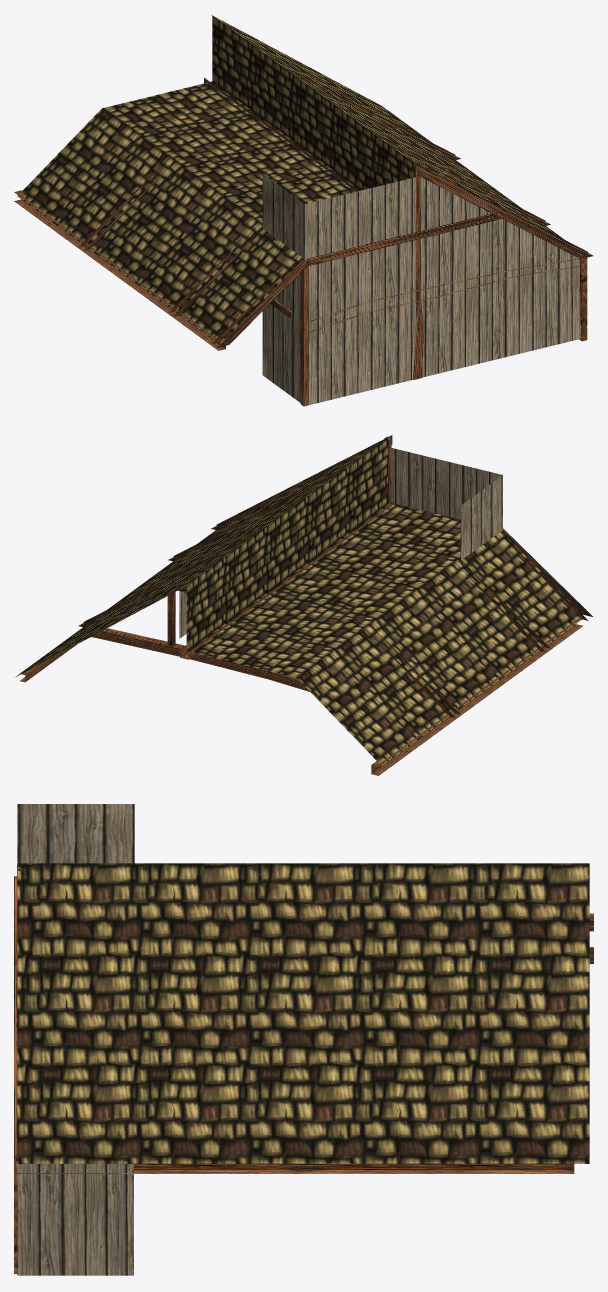
The model's file is LAKETOWN_PUB_PS_PUB_ROOFBACKWALL9__GX.fbx.
3 views of the same model, one above another, from view 1: azimuth 30°, elevation 25°; view 2: azimuth 150°, elevation 25°; view 3: azimuth 270°, elevation 25° (orthographic). The views are drawn at different scales.
Parts seen in each view (by area): view 1: LAKETOWN_PUB_PS_PUB_ROOFBACKWALL9__GX; view 2: LAKETOWN_PUB_PS_PUB_ROOFBACKWALL9__GX; view 3: LAKETOWN_PUB_PS_PUB_ROOFBACKWALL9__GX.
Part boxes in pixels (x1,y1,x2,y2): LAKETOWN_PUB_PS_PUB_ROOFBACKWALL9__GX: [14, 15, 593, 406]; LAKETOWN_PUB_PS_PUB_ROOFBACKWALL9__GX: [16, 435, 592, 775]; LAKETOWN_PUB_PS_PUB_ROOFBACKWALL9__GX: [14, 804, 593, 1275].
Size of the model in its own units: 114692 by 62488 by 109694.
5 materials, 5 textured.
